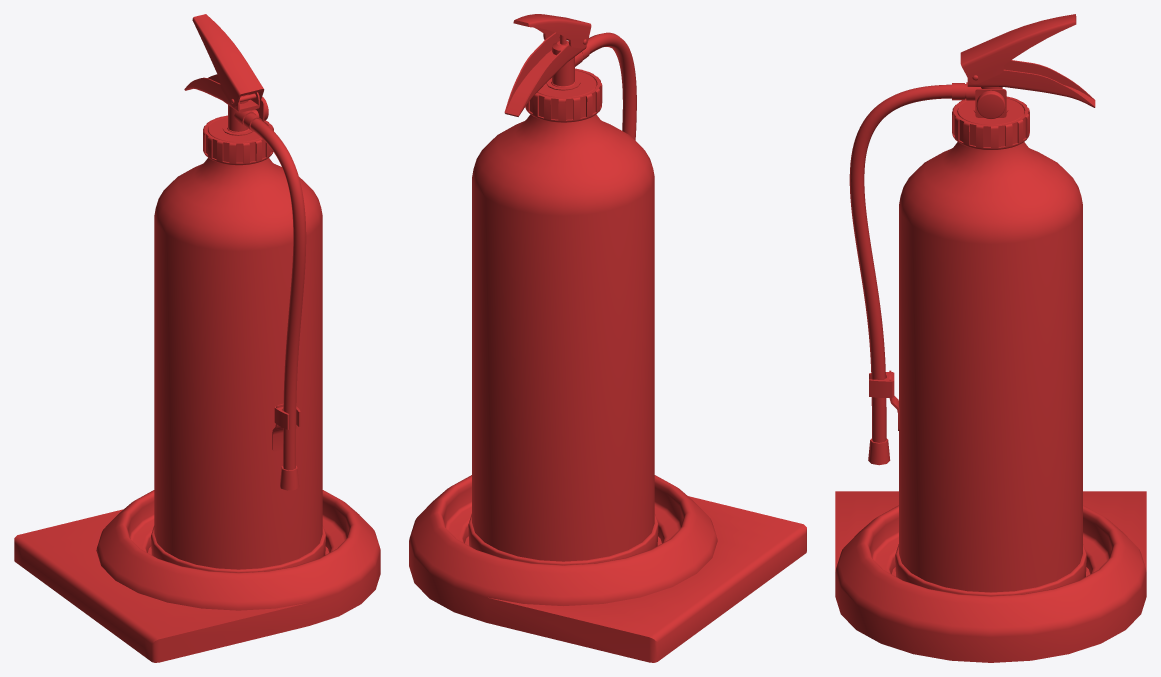
File: syoukaki.fbx
The picture shows the model from 3 angles, left to right: view 1: azimuth 30°, elevation 25°; view 2: azimuth 150°, elevation 25°; view 3: azimuth 270°, elevation 25°; orthographic projection. The views are drawn at different scales.
Visible parts, largest first — view 1: Fire extinguisher Stand.001; view 2: Fire extinguisher Stand.001; view 3: Fire extinguisher Stand.001.
Part boxes in pixels (x1,y1,x2,y2): Fire extinguisher Stand.001: (14,14,380,662); Fire extinguisher Stand.001: (409,14,806,662); Fire extinguisher Stand.001: (835,14,1146,662).
Bounding box in the file's own units: 36.67 × 66.71 × 32.43.
